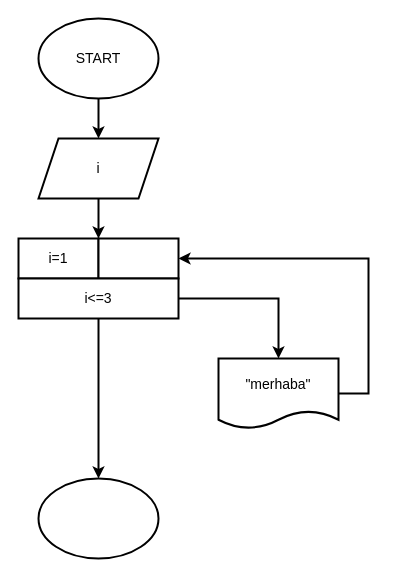
This 394x576 diagram has some shape labels left out. The centre of each missing label's shape, as x and y in pixels:
i++: point 138,258
STOP: point 98,518
